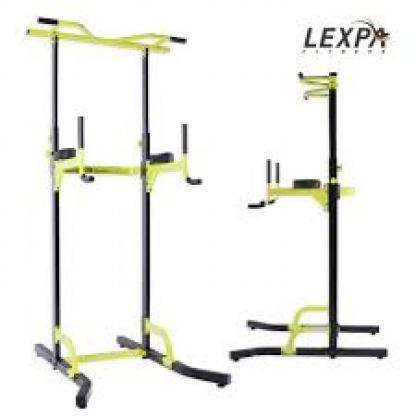chinning dipping: (24, 16, 230, 409), (230, 66, 390, 365)
